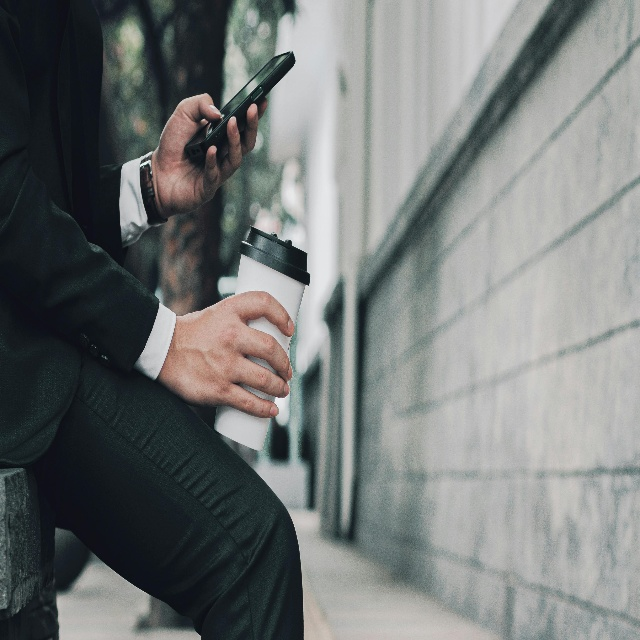Guantes: (171, 287, 297, 417), (158, 91, 267, 217)
